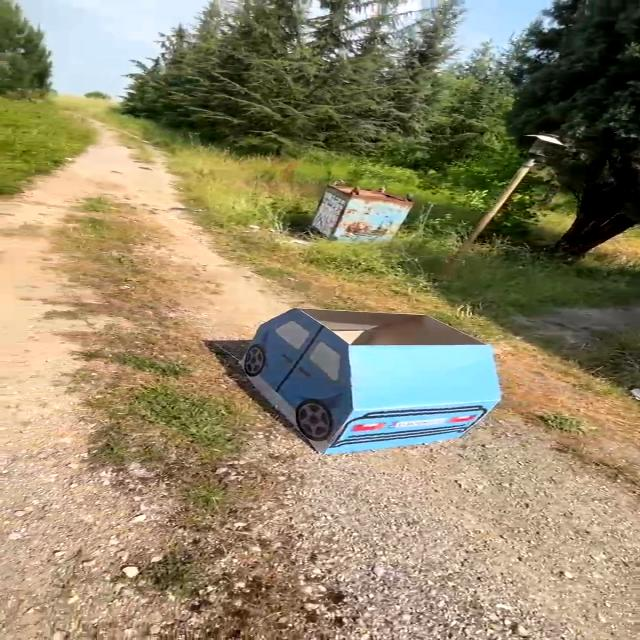blue_car: (207, 288, 544, 471)
